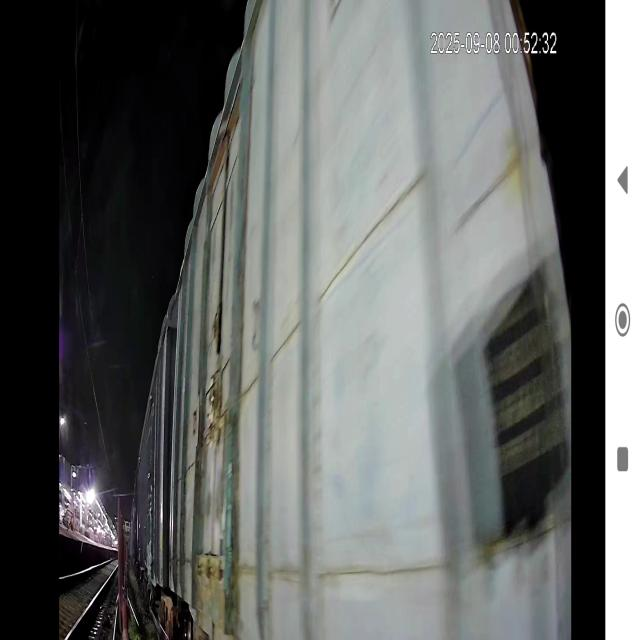coach: (179, 19, 577, 640)
